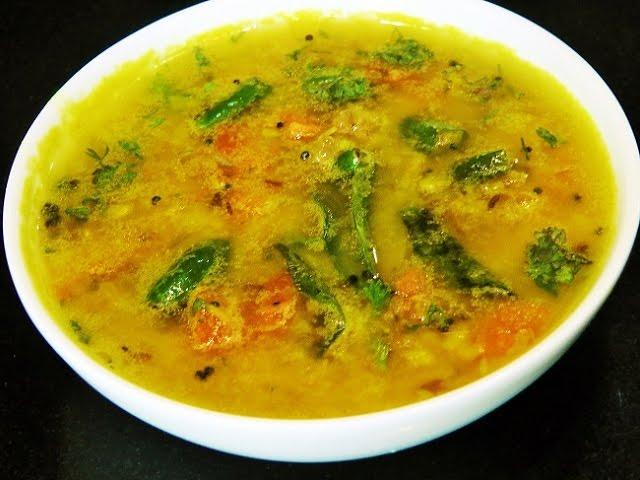varan: (55, 34, 588, 389)
